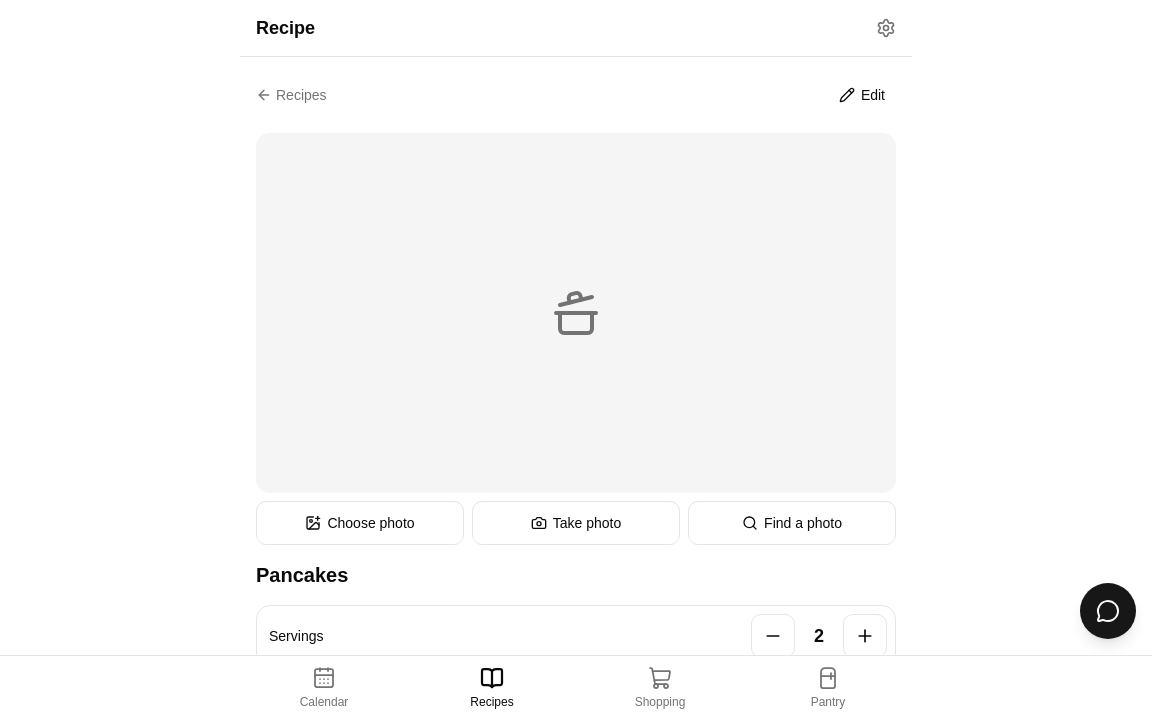
Test case: photo search picker › keeps photo search available after an unavailable answer
Click the button "Find a photo" at x=792, y=523, box [688, 501, 896, 545]
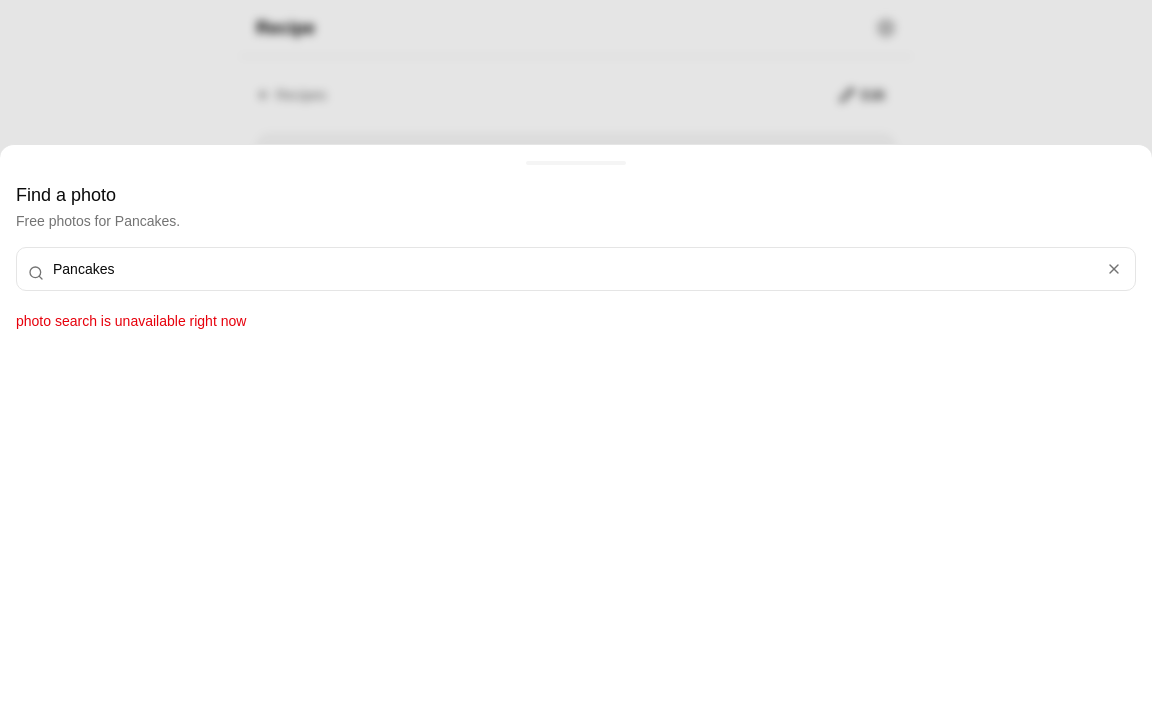
expect the message reads "photo search is unavailable right now": met, box [16, 313, 246, 329]
Press Escape
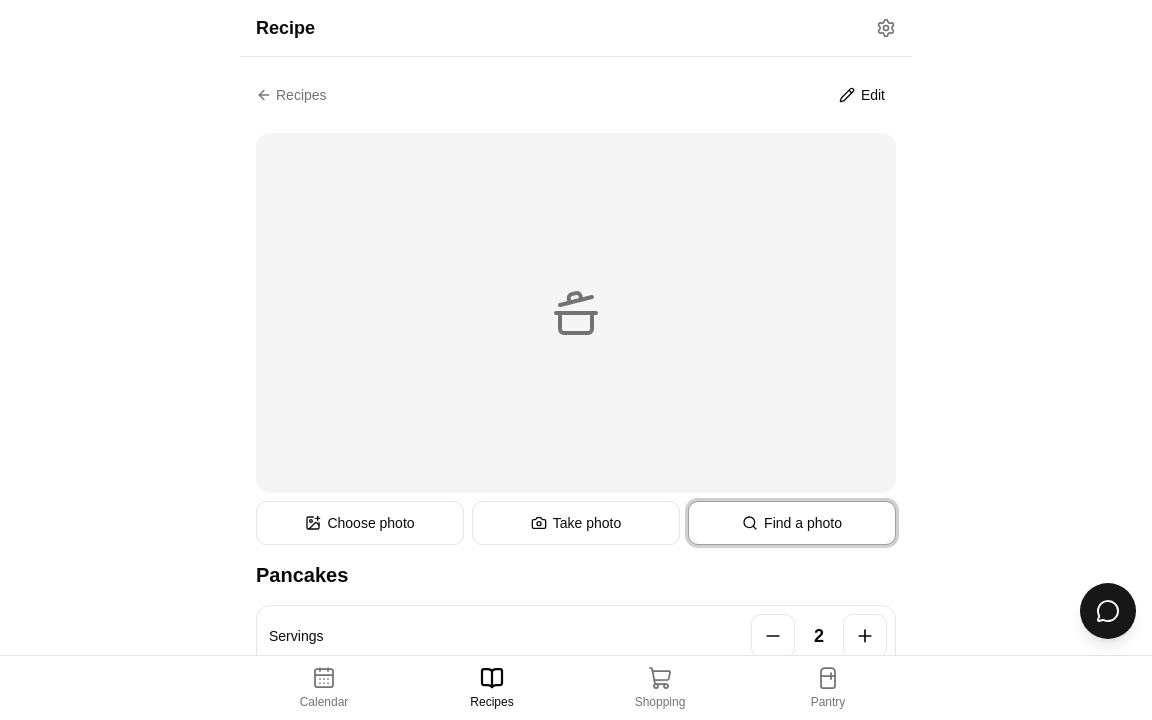
expect the button "Find a photo" is shown: met, box [688, 501, 896, 545]
expect the dialog is gone: met
